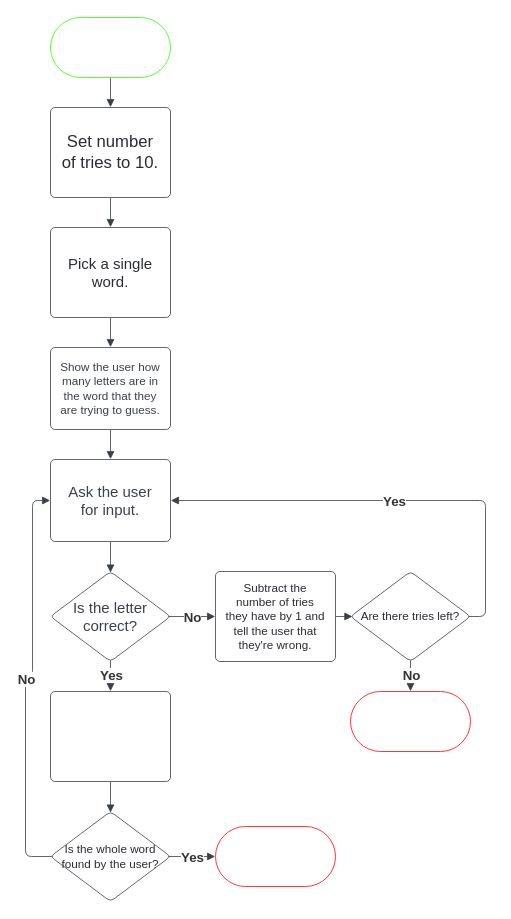
Some shapes in this 511 by 919 pixel diagram are drawn without their labels. The shapes that lost their labels are listed below. From the top down, each one's box as (x1, y1, x2, y2) in pixels, then its label:
(50, 17, 170, 77): Start
(50, 691, 170, 781): Show where the correct letter is placed on the screen.
(350, 691, 470, 751): Tell the user that they've lost and the word they were trying to guess.
(215, 826, 335, 886): Tell the user that they've won and the number of tries used.
